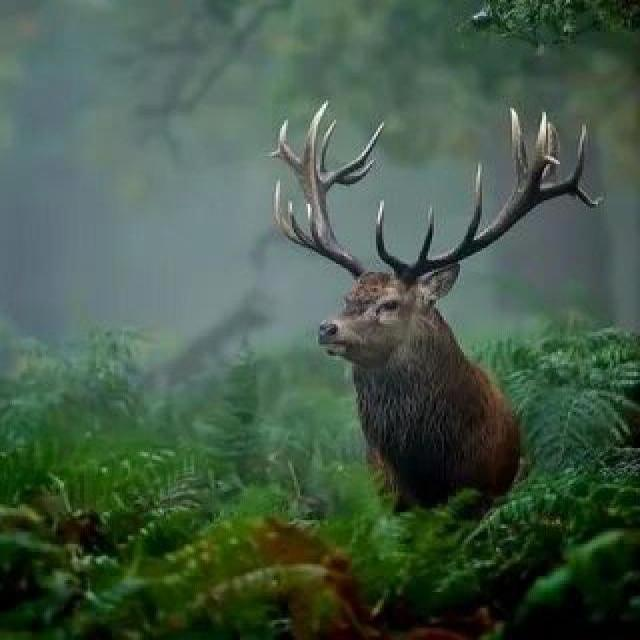deer: (201, 60, 585, 559)
